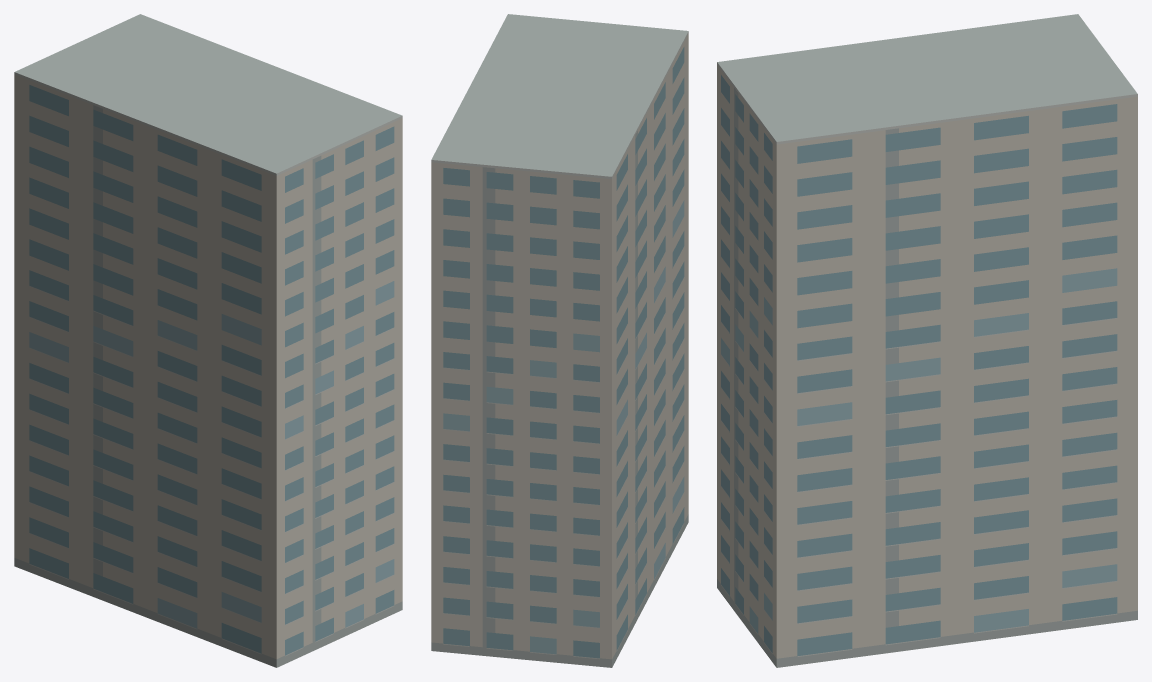
File: residential-092aa518-4186-476c-8495-1484194bc4a1.glb
The picture shows the model from 3 angles, left to right: view 1: azimuth 30°, elevation 25°; view 2: azimuth 150°, elevation 25°; view 3: azimuth 270°, elevation 25°; orthographic projection. The views are drawn at different scales.
Parts seen in each view (by area): view 1: residential-092aa518-4186-476c-8495-1484194bc4a1.tmp; view 2: residential-092aa518-4186-476c-8495-1484194bc4a1.tmp; view 3: residential-092aa518-4186-476c-8495-1484194bc4a1.tmp.
Boxes of the visible parts, x1,y1,x2,y2 form: residential-092aa518-4186-476c-8495-1484194bc4a1.tmp: (14,14,402,667); residential-092aa518-4186-476c-8495-1484194bc4a1.tmp: (431,14,688,667); residential-092aa518-4186-476c-8495-1484194bc4a1.tmp: (717,14,1137,667).
Bounding box in the file's own units: 26.11 × 50 × 36.26.
